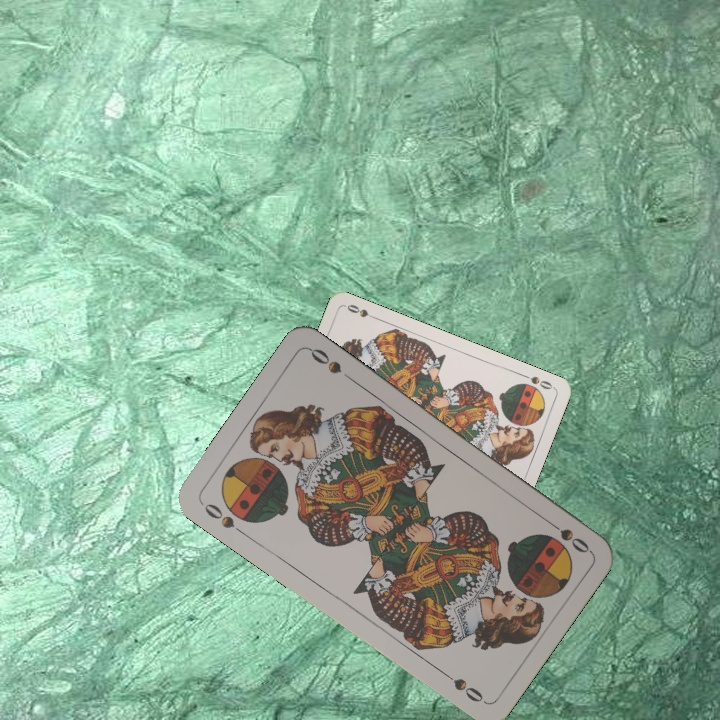SO: (541, 515, 592, 556), (198, 499, 249, 539), (518, 370, 557, 392)
